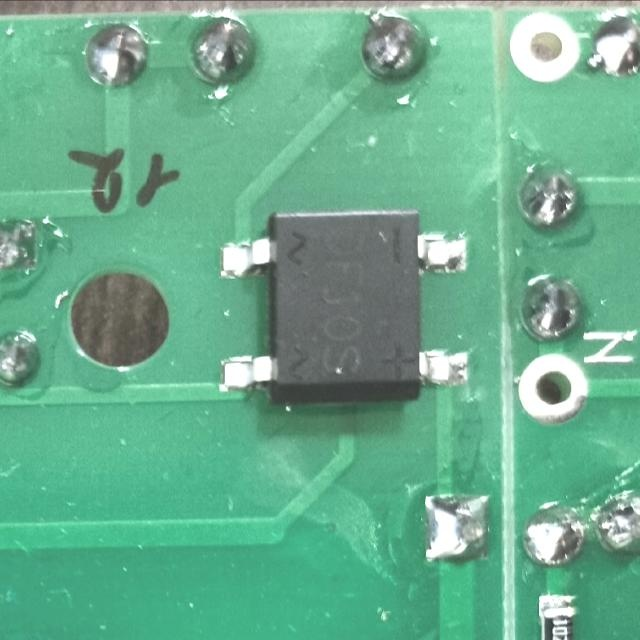chip-resistor: (537, 591, 578, 640)
ic: (211, 202, 473, 407)
